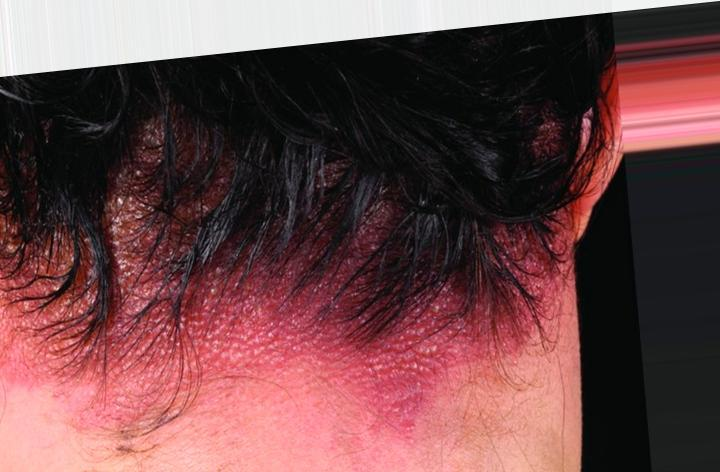Contact Dermatitis: (38, 149, 515, 395)
